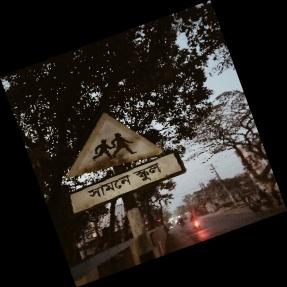School-in-front: (65, 112, 183, 216)
